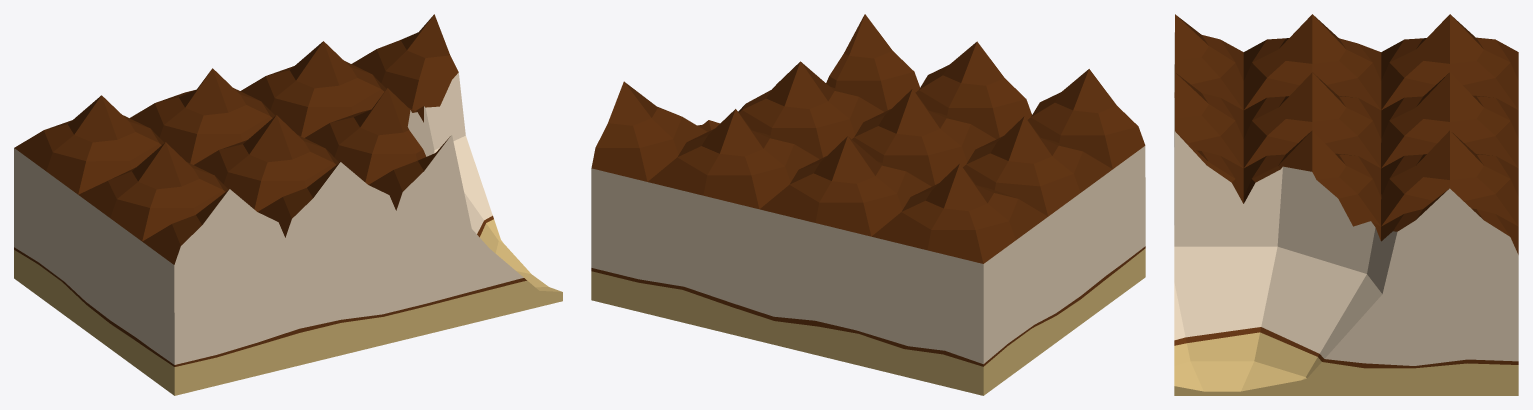
Rendered from TiramisuState1.fbx.
3 views of the same model, side by side, from view 1: azimuth 30°, elevation 25°; view 2: azimuth 150°, elevation 25°; view 3: azimuth 270°, elevation 25° (orthographic). The views are drawn at different scales.
Parts seen in each view (by area): view 1: TiramisuState1; view 2: TiramisuState1; view 3: TiramisuState1.
Boxes of the visible parts, x1,y1,x2,y2 form: TiramisuState1: (14, 14, 562, 395); TiramisuState1: (591, 14, 1145, 395); TiramisuState1: (1174, 14, 1518, 395).
Size of the model in its own units: 93.32 by 44.4 by 66.8.
